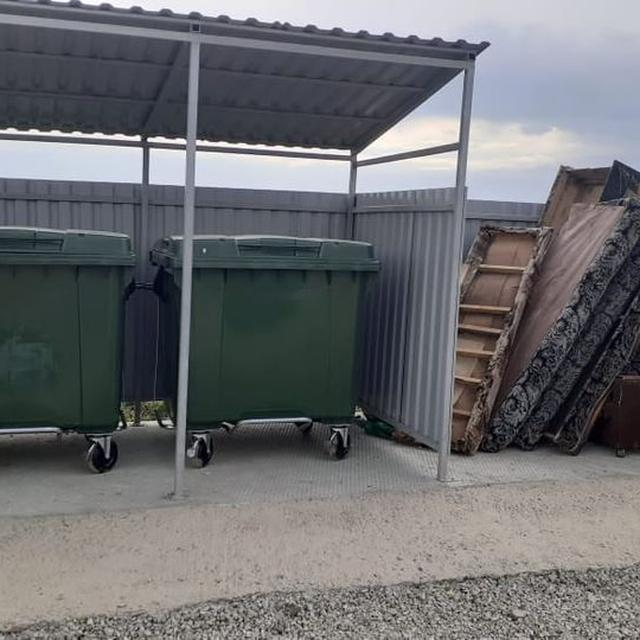Trash_Can_Closed: (150, 234, 380, 429), (0, 227, 138, 432)
